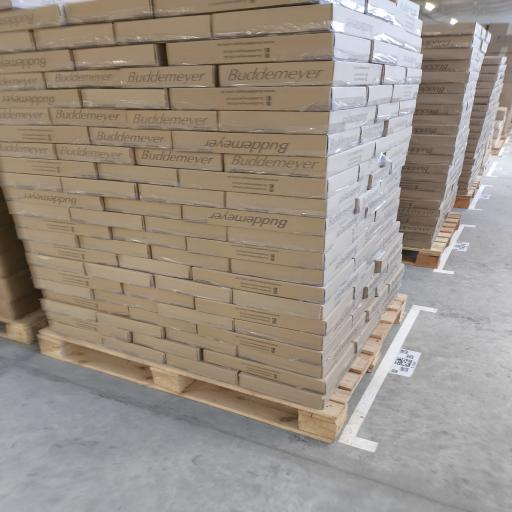pallet: (39, 294, 406, 442), (403, 212, 461, 268), (0, 310, 47, 344), (454, 176, 481, 208), (492, 138, 504, 155)
